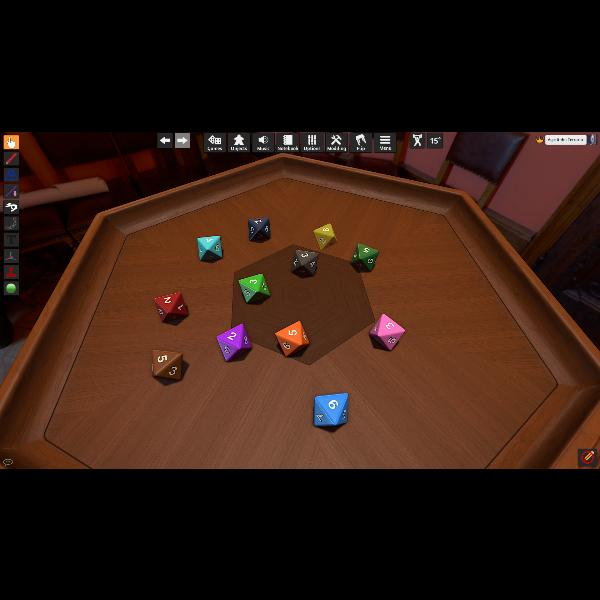d8: (368, 312, 404, 350), (215, 324, 249, 362), (274, 320, 308, 356), (154, 292, 188, 323), (313, 394, 345, 426), (153, 349, 184, 380), (238, 272, 270, 302), (351, 242, 379, 270), (198, 234, 222, 262), (291, 249, 315, 275), (312, 223, 334, 249), (248, 217, 270, 241)
